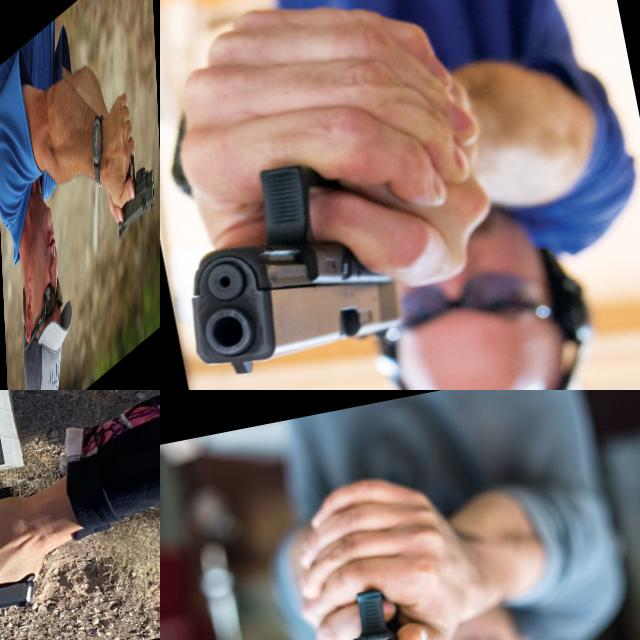handgun: (160, 129, 422, 386), (0, 479, 88, 637), (328, 567, 429, 640), (113, 109, 156, 244)
